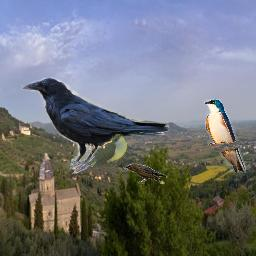Crow: (21, 77, 171, 171), (123, 163, 168, 184)
Cuckoo: (71, 134, 127, 174)
Swallow: (204, 99, 246, 173)
